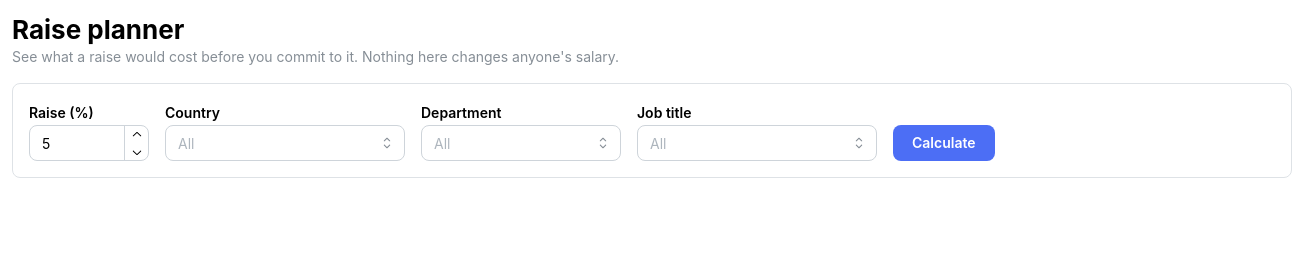
RaisePlannerPage › shows the error when the server rejects the input
Click the button "Calculate" at (944, 143), box left=893, top=125, right=994, bottom=161
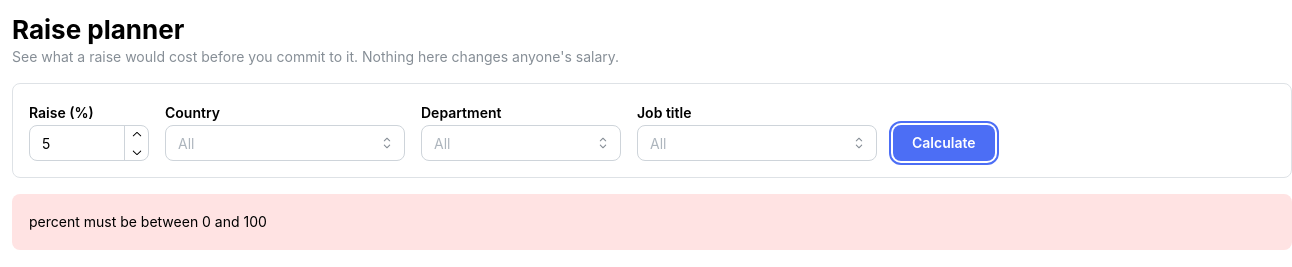
Check: the text "percent must be between 0 and 100" is shown, box left=29, top=213, right=267, bottom=230
